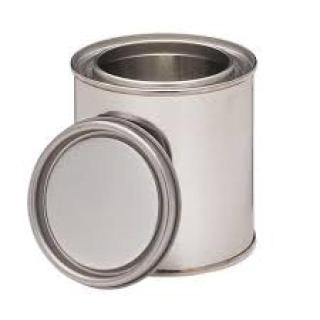Anorganik: (61, 25, 261, 281), (24, 115, 184, 295)
